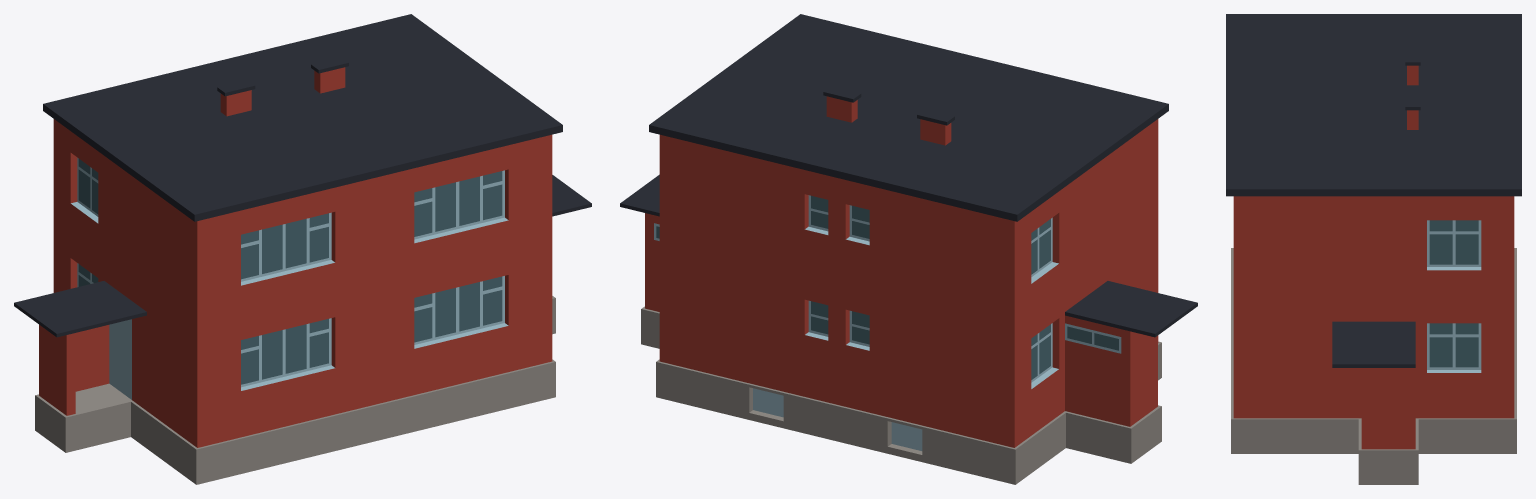
Rendered from house_bata_06.fbx.
3 renders of one model, left to right at view 1: azimuth 30°, elevation 25°; view 2: azimuth 150°, elevation 25°; view 3: azimuth 270°, elevation 25°, orthographic. The views are drawn at different scales.
Parts seen in each view (by area): view 1: house_bata_06.fbx; view 2: house_bata_06.fbx; view 3: house_bata_06.fbx.
Boxes of the visible parts, x1,y1,x2,y2 form: house_bata_06.fbx: [14, 14, 591, 484]; house_bata_06.fbx: [620, 14, 1197, 484]; house_bata_06.fbx: [1226, 14, 1521, 484].
Bounding box in the file's own units: 1456 × 775 × 715.
